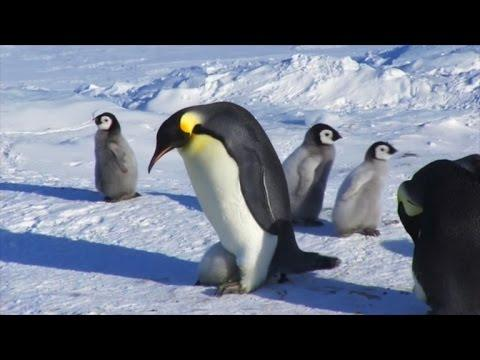emporer: (128, 82, 360, 295)
